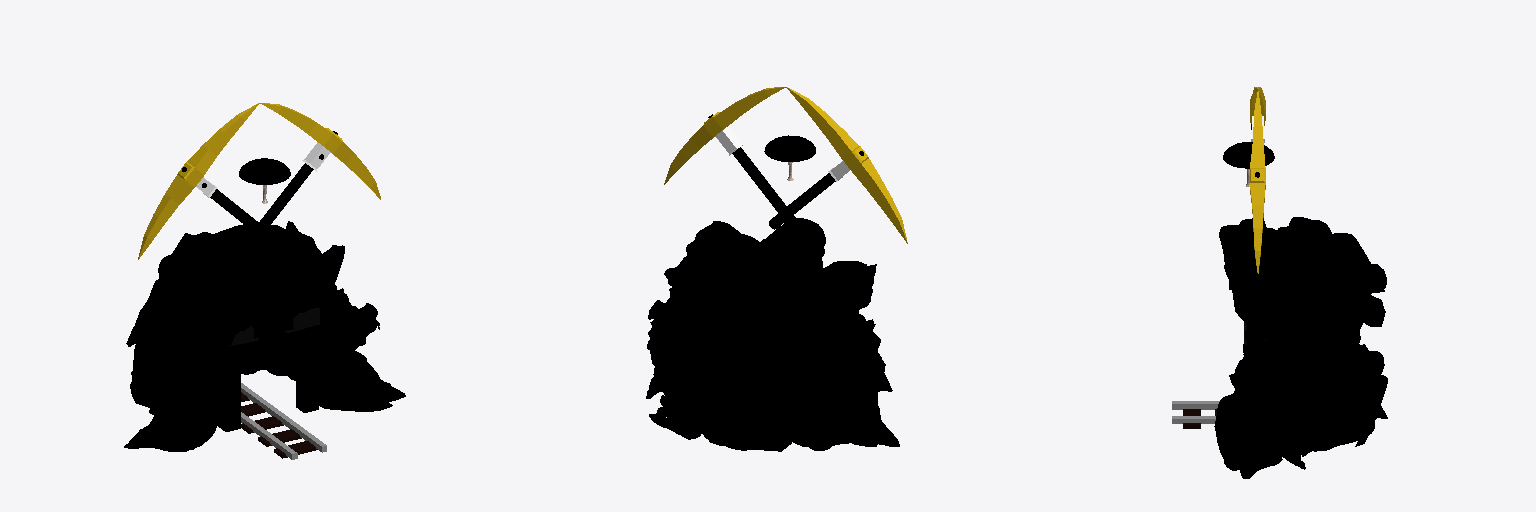
3 views of the same model, side by side, from view 1: azimuth 30°, elevation 25°; view 2: azimuth 150°, elevation 25°; view 3: azimuth 270°, elevation 25° (orthographic).
Parts seen in each view (by area): view 1: shard1, pCube9, shard18 polySurface7, solidShatter1 shard6, pCylinder6 polySurface17, solidShatter1 shard8, shard18 polySurface6, polySurface4 shard18, pCylinder6 polySurface22, solidShatter1 shard32, solidShatter1 shard31, solidShatter1 shard27 (+11 smaller); view 2: solidShatter1 shard31, solidShatter1 shard22, solidShatter1 shard21, solidShatter1 shard30, solidShatter1 shard24, solidShatter1 shard26, pCylinder6 polySurface17, shard1, solidShatter1 shard6, solidShatter1 shard25, pCylinder6 polySurface22, solidShatter1 shard8 (+14 smaller); view 3: shard18 polySurface8, shard18 polySurface7, solidShatter1 shard21, shard18 polySurface9, solidShatter1 shard6, polySurface4 shard18, solidShatter1 shard22, pCylinder6 polySurface22, shard18 polySurface10, solidShatter1 shard24, solidShatter1 shard8, solidShatter1 shard27 (+7 smaller).
Part boxes in pixels (x1,y1,x2,y2): shard1: (124, 272, 249, 451); pCube9: (217, 304, 319, 431); shard18 polySurface7: (316, 344, 405, 411); solidShatter1 shard6: (237, 250, 302, 327); pCylinder6 polySurface17: (138, 103, 259, 259); solidShatter1 shard8: (158, 252, 243, 286); shard18 polySurface6: (318, 293, 364, 355); polySurface4 shard18: (282, 245, 344, 303); pCylinder6 polySurface22: (260, 103, 380, 199); solidShatter1 shard32: (149, 327, 193, 415); solidShatter1 shard31: (132, 310, 186, 394); solidShatter1 shard27: (241, 332, 295, 376); solidShatter1 shard31: (762, 331, 892, 409); solidShatter1 shard22: (743, 259, 804, 355); solidShatter1 shard21: (689, 247, 752, 346); solidShatter1 shard30: (699, 392, 787, 445); solidShatter1 shard24: (653, 334, 728, 392); solidShatter1 shard26: (734, 296, 872, 372); pCylinder6 polySurface17: (786, 87, 907, 243); shard1: (824, 261, 899, 446); solidShatter1 shard6: (742, 218, 825, 267); solidShatter1 shard25: (748, 382, 868, 447); pCylinder6 polySurface22: (664, 87, 785, 184); solidShatter1 shard8: (777, 256, 830, 315); shard18 polySurface8: (1275, 339, 1344, 456); shard18 polySurface7: (1214, 393, 1282, 478); solidShatter1 shard21: (1269, 250, 1386, 301); shard18 polySurface9: (1264, 296, 1350, 392); solidShatter1 shard6: (1223, 226, 1276, 298); polySurface4 shard18: (1232, 278, 1286, 341); solidShatter1 shard22: (1269, 233, 1384, 299); pCylinder6 polySurface22: (1250, 91, 1265, 273); shard18 polySurface10: (1315, 281, 1378, 346); solidShatter1 shard24: (1340, 336, 1384, 395); solidShatter1 shard8: (1269, 217, 1331, 261); solidShatter1 shard27: (1267, 368, 1387, 439).
Bounding box in the file's own units: 17.49 × 20.56 × 12.39.
12 materials, 1 textured.